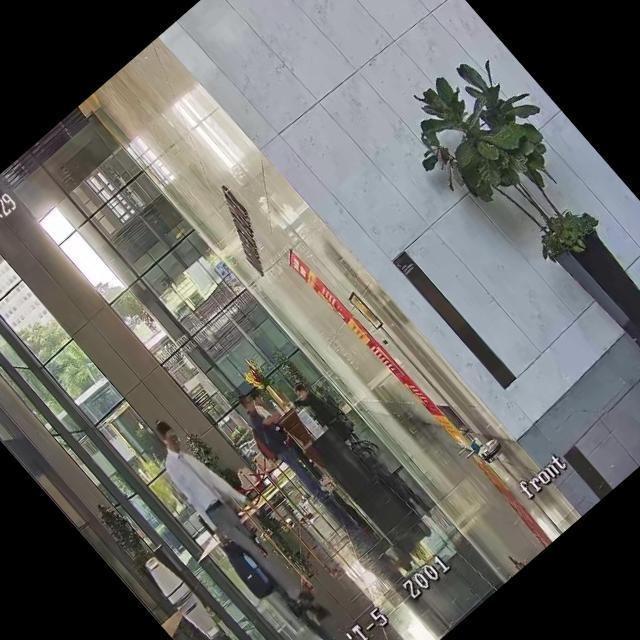person: (134, 408, 323, 614), (226, 380, 342, 506), (246, 389, 336, 490), (288, 368, 364, 449)
